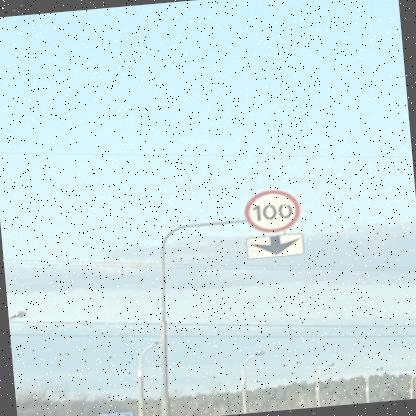speedlimit: (240, 186, 300, 232)
